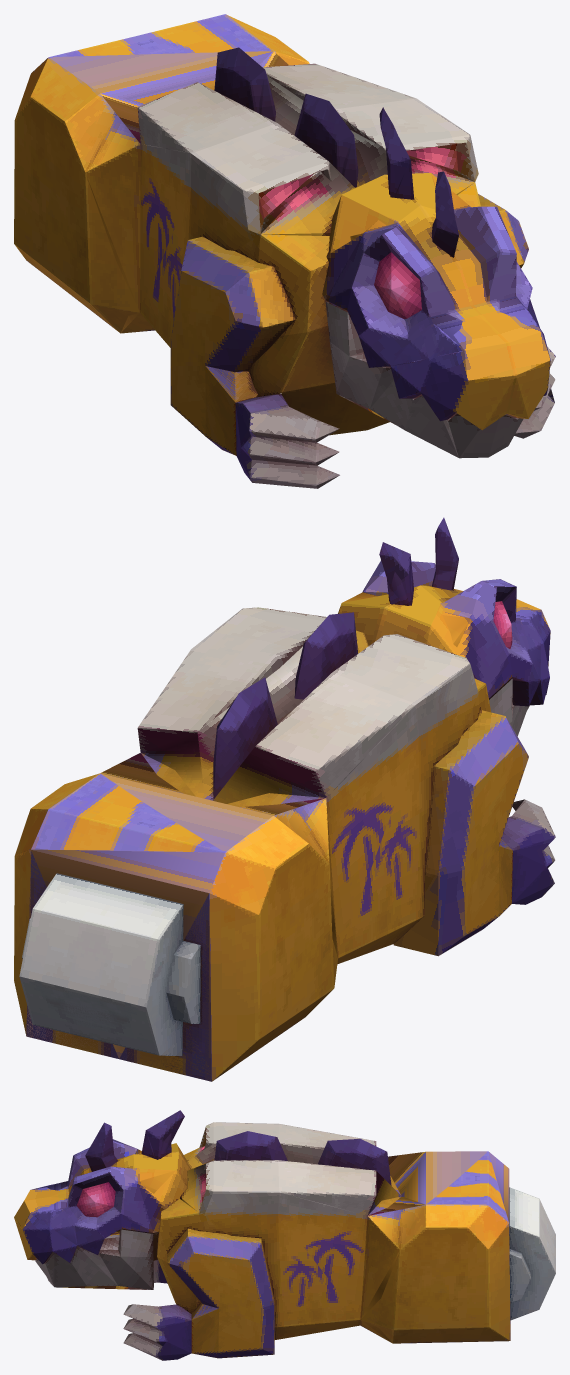
Rendered from item_animal_bot_trex.glb.
3 renders of one model, top to bottom at view 1: azimuth 30°, elevation 25°; view 2: azimuth 150°, elevation 25°; view 3: azimuth 270°, elevation 25°, orthographic. The views are drawn at different scales.
Parts seen in each view (by area): view 1: AnimalBot_TRex; view 2: AnimalBot_TRex; view 3: AnimalBot_TRex.
Boxes of the visible parts, x1,y1,x2,y2 form: AnimalBot_TRex: (14, 14, 555, 488); AnimalBot_TRex: (14, 517, 555, 1081); AnimalBot_TRex: (14, 1110, 555, 1360).
Size of the model in its own units: 0.8414 by 0.878 by 2.06.
Materials: 1 (1 with a texture image).
